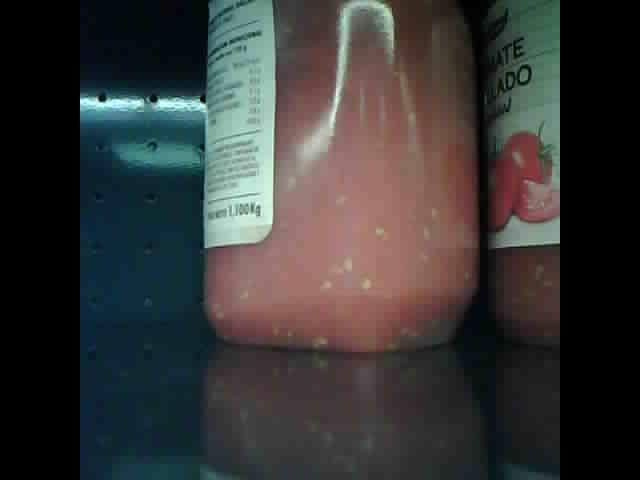tomate: (202, 2, 481, 349), (486, 3, 559, 346)
